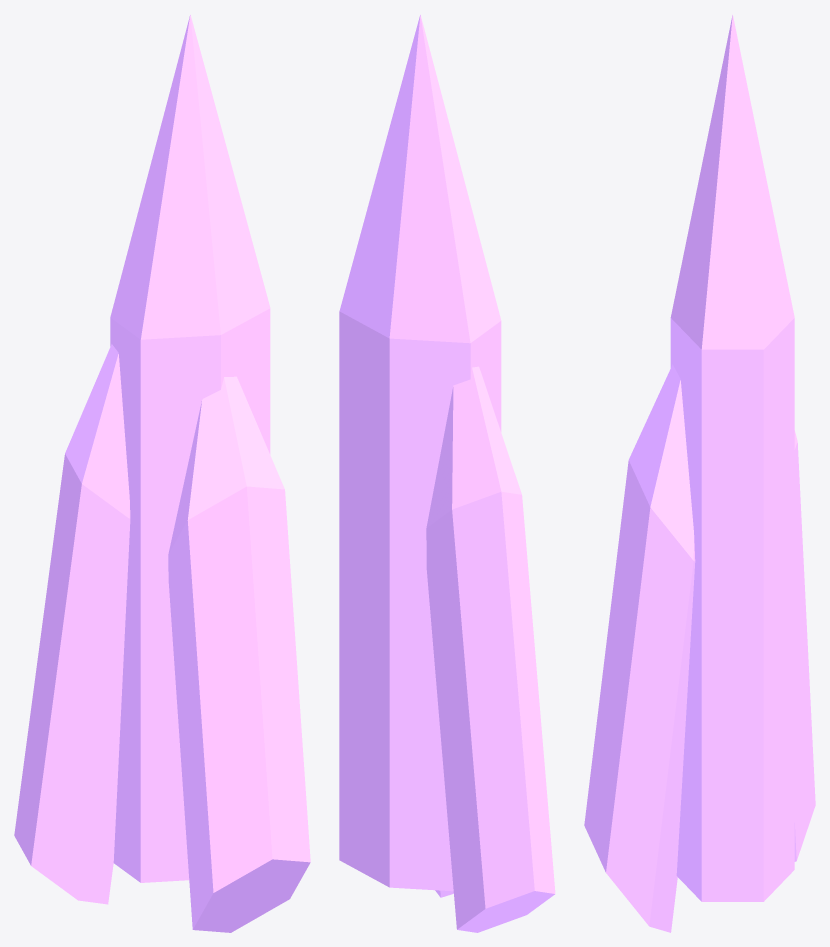
File: cryst4a.glb
The picture shows the model from 3 angles, left to right: view 1: azimuth 30°, elevation 25°; view 2: azimuth 150°, elevation 25°; view 3: azimuth 270°, elevation 25°; orthographic projection.
Visible parts, largest first — view 1: shard; view 2: shard; view 3: shard.
Part boxes in pixels (left/top/right/bottom): shard: left=14, top=14, right=310, bottom=932; shard: left=339, top=14, right=555, bottom=932; shard: left=584, top=14, right=815, bottom=932.
Size of the model in its own units: 1.5 by 6.1 by 1.4.
